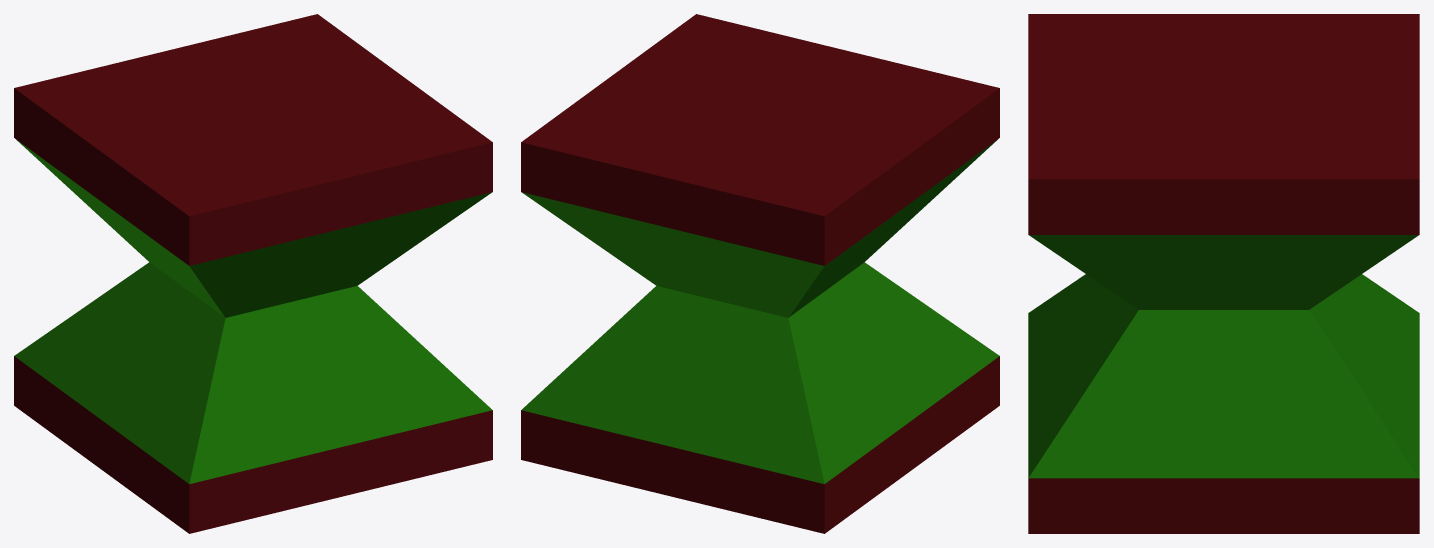
3 views of the same model, side by side, from view 1: azimuth 30°, elevation 25°; view 2: azimuth 150°, elevation 25°; view 3: azimuth 270°, elevation 25° (orthographic). The views are drawn at different scales.
Visible parts, largest first — view 1: Base; view 2: Base; view 3: Base.
Part boxes in pixels (<box>): Base: <box>14,14,492,533</box>; Base: <box>521,14,999,533</box>; Base: <box>1028,14,1419,533</box>.
Size of the model in its own units: 100 by 100 by 100.
